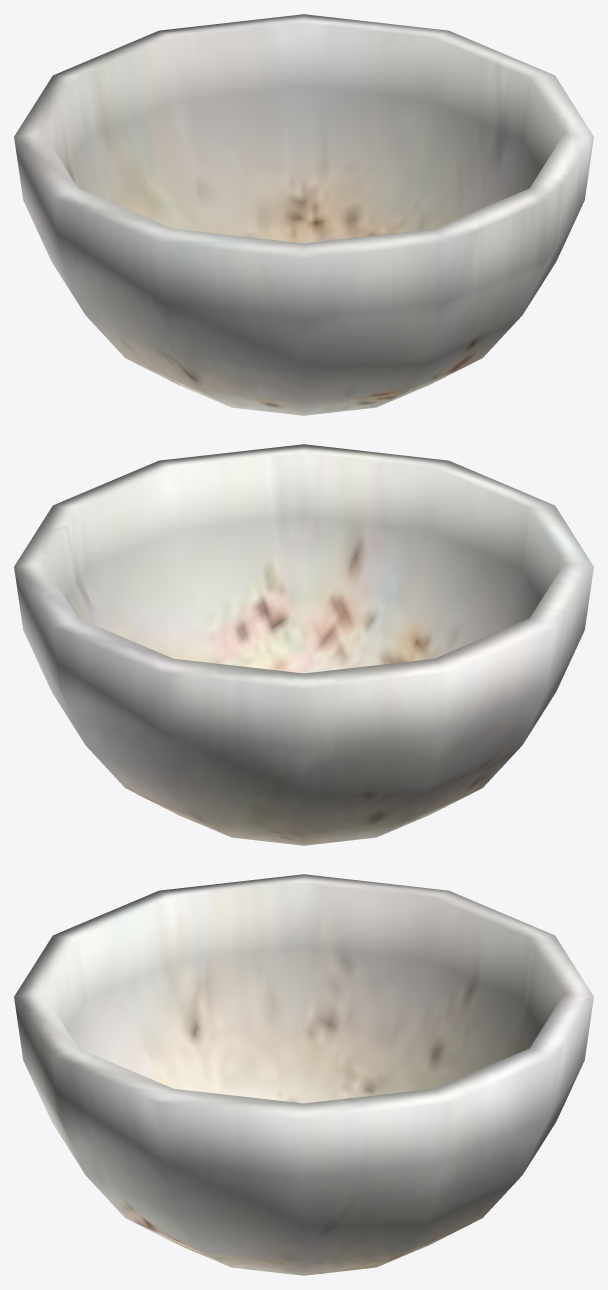
Rendered from bowl_2.FBX.
3 renders of one model, top to bottom at view 1: azimuth 30°, elevation 25°; view 2: azimuth 150°, elevation 25°; view 3: azimuth 270°, elevation 25°, orthographic.
Parts seen in each view (by area): view 1: bowl_1; view 2: bowl_1; view 3: bowl_1.
Part boxes in pixels (x1,y1,x2,y2): bowl_1: (14, 14, 593, 415); bowl_1: (14, 444, 593, 845); bowl_1: (14, 874, 593, 1275).
Size of the model in its own units: 7.72 by 3.49 by 7.72.
